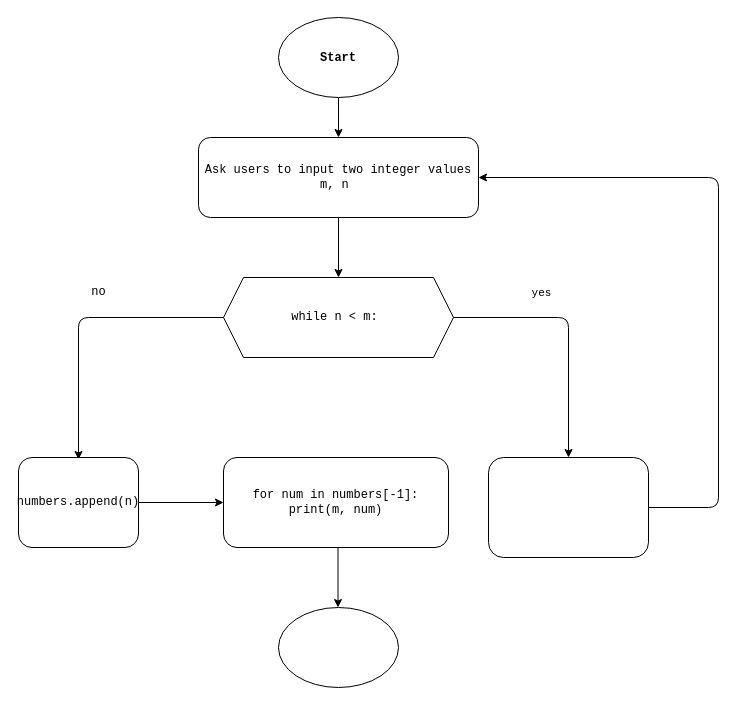
Image size: 744x705. Some labels were removed from this diagram. Here are the shapes that lost their labels. From the top down, the centre of each, then its label:
(568,507): numbers.append(n) n= int(input("Enter a value: "))
(338,647): End
